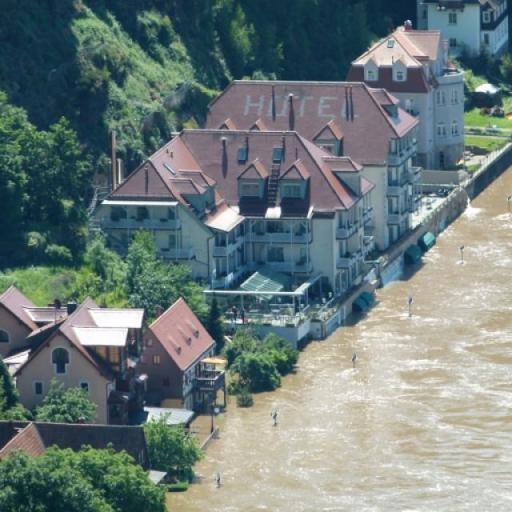flood: (168, 168, 512, 512)
house: (90, 124, 372, 336), (207, 76, 421, 236), (18, 297, 156, 384), (0, 414, 148, 481), (138, 292, 216, 410), (354, 26, 442, 92), (476, 0, 510, 57)
